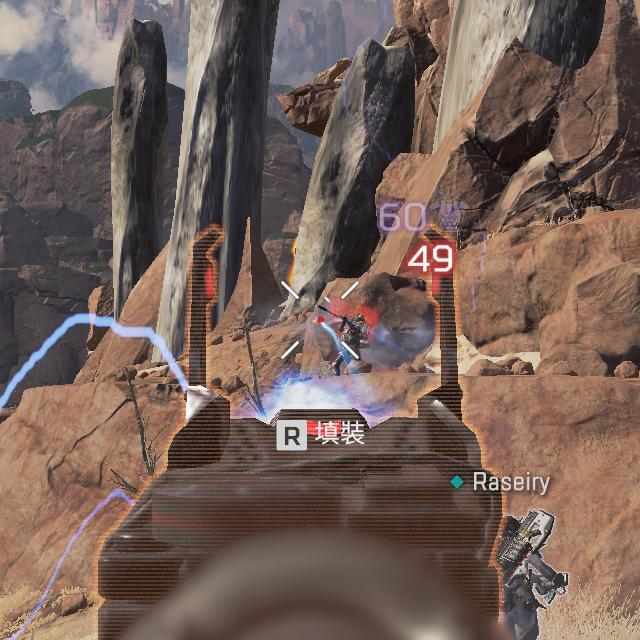avatar: (330, 310, 371, 378)
